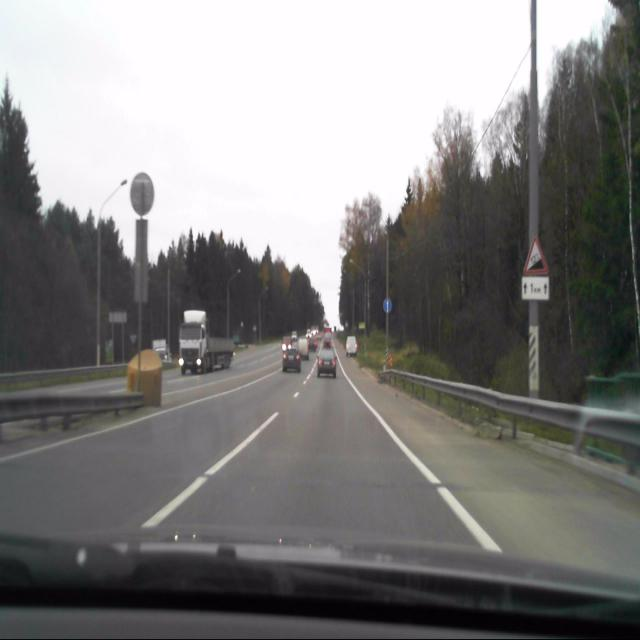road sign: (520, 236, 549, 276)
